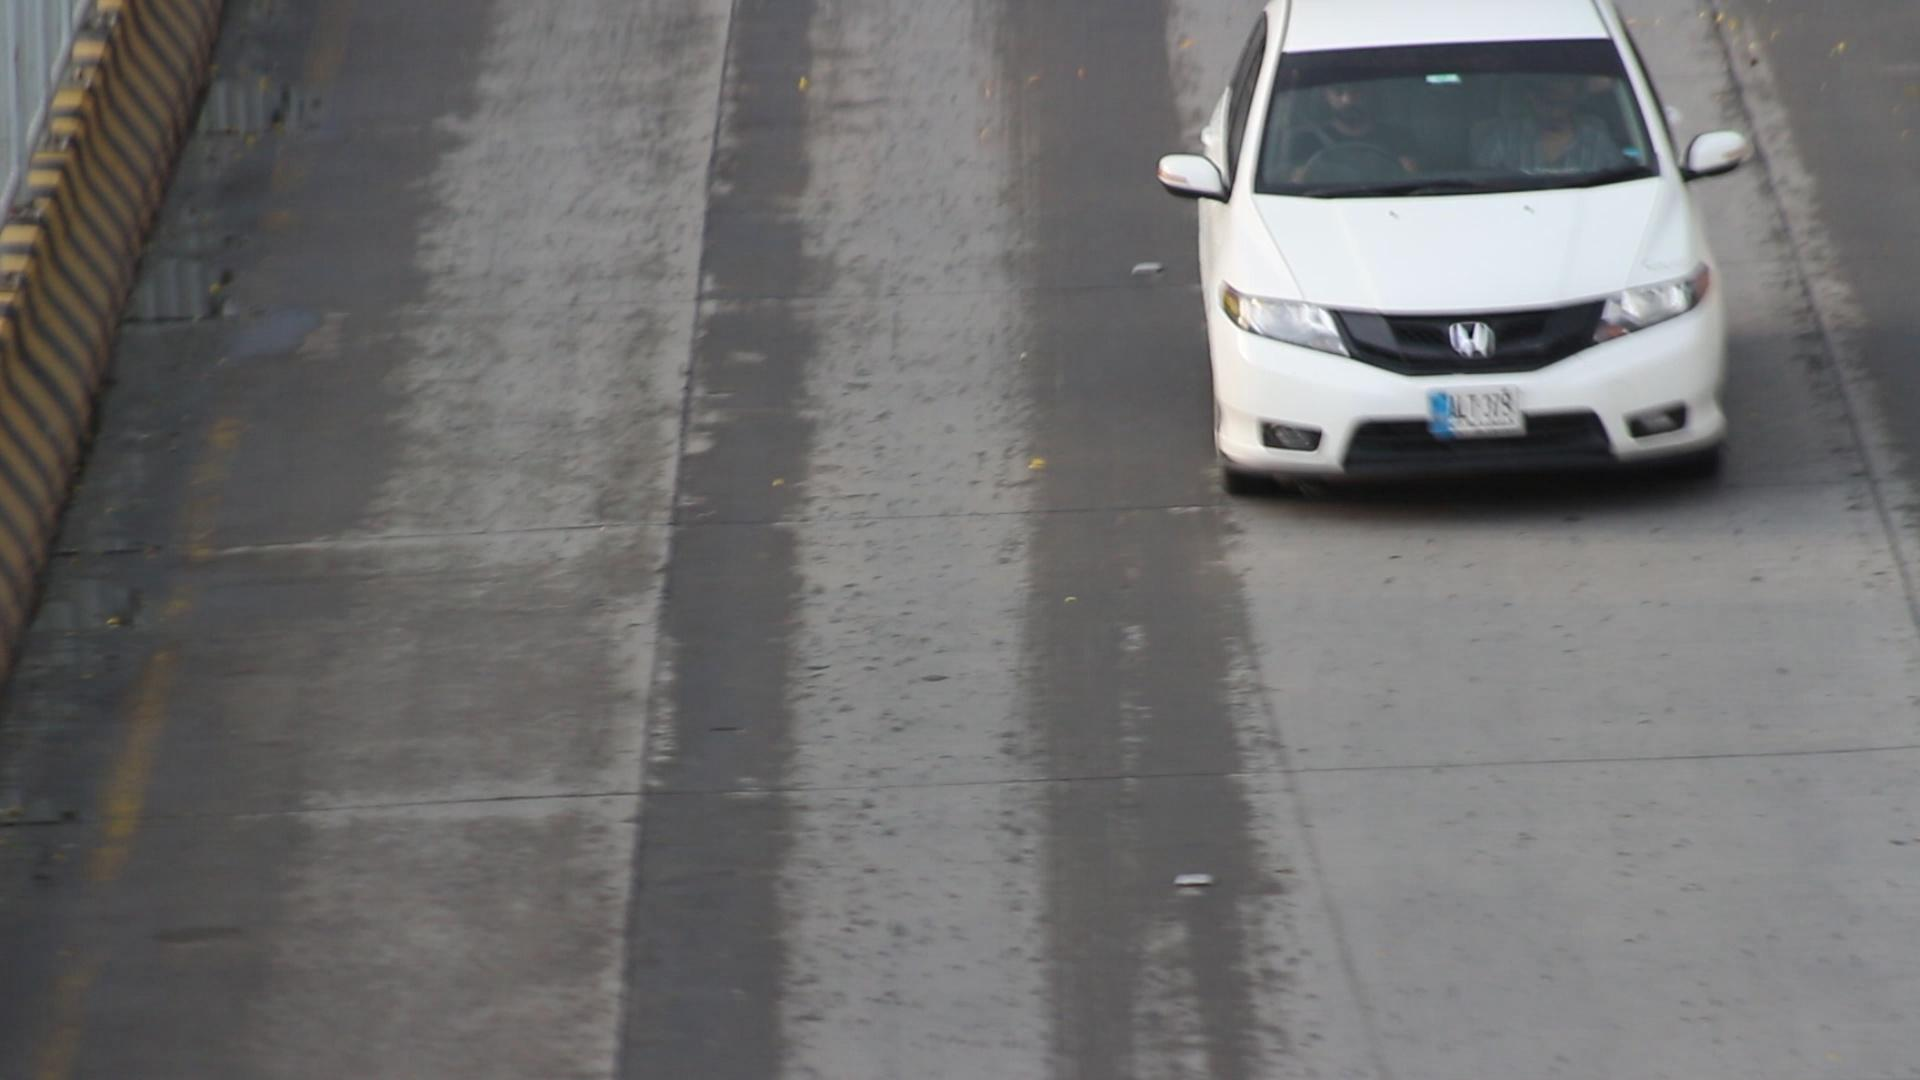windshield: (1237, 30, 1673, 214)
